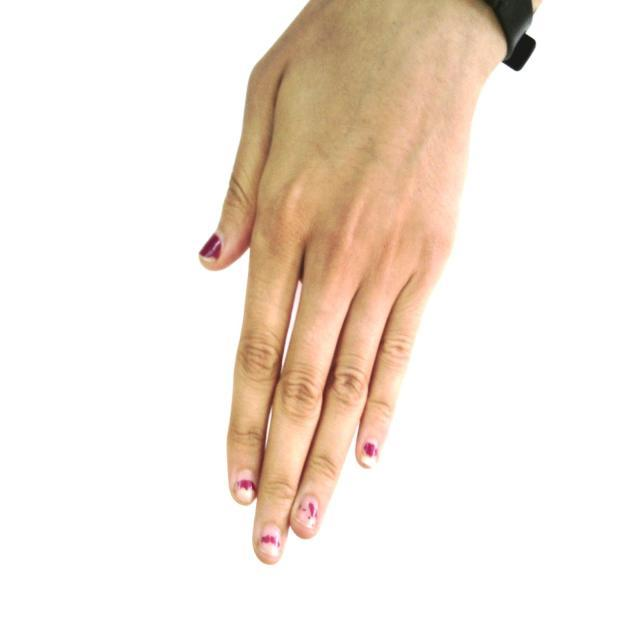Fingernail: (259, 525, 281, 561), (296, 496, 317, 528), (236, 472, 255, 503), (200, 234, 220, 258), (363, 441, 378, 462)
